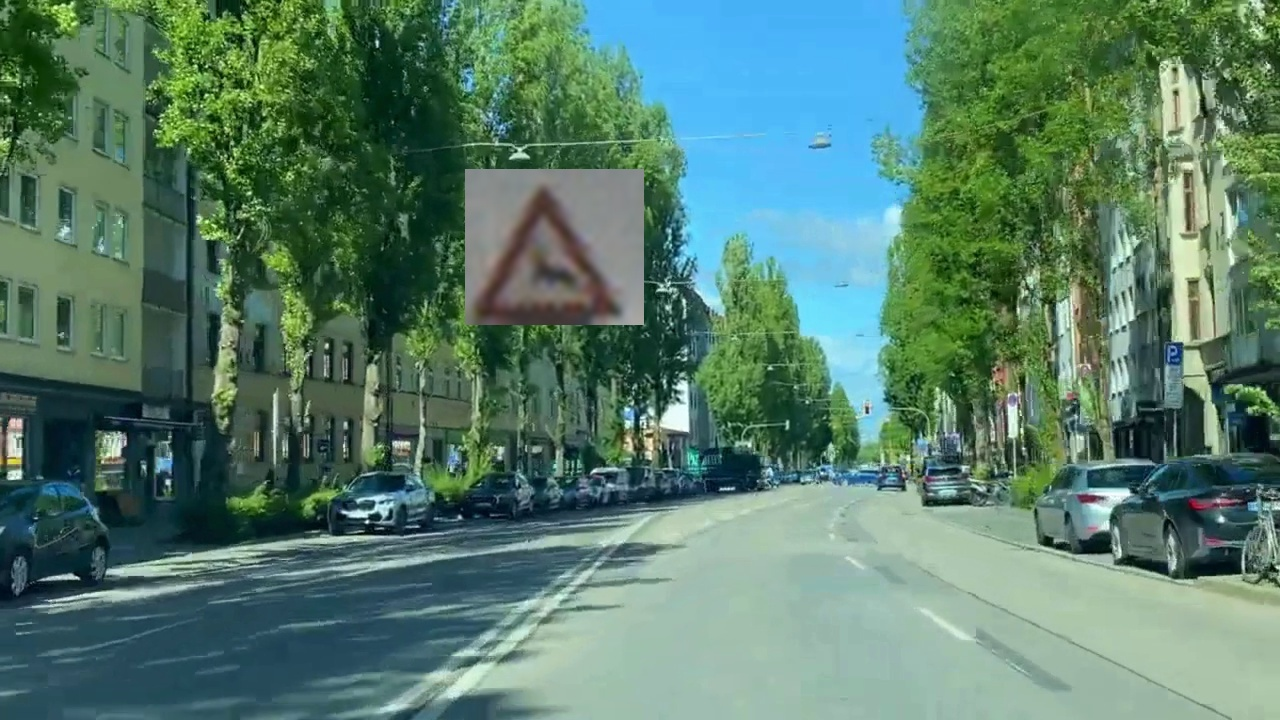Wild animals: (465, 169, 644, 325)
